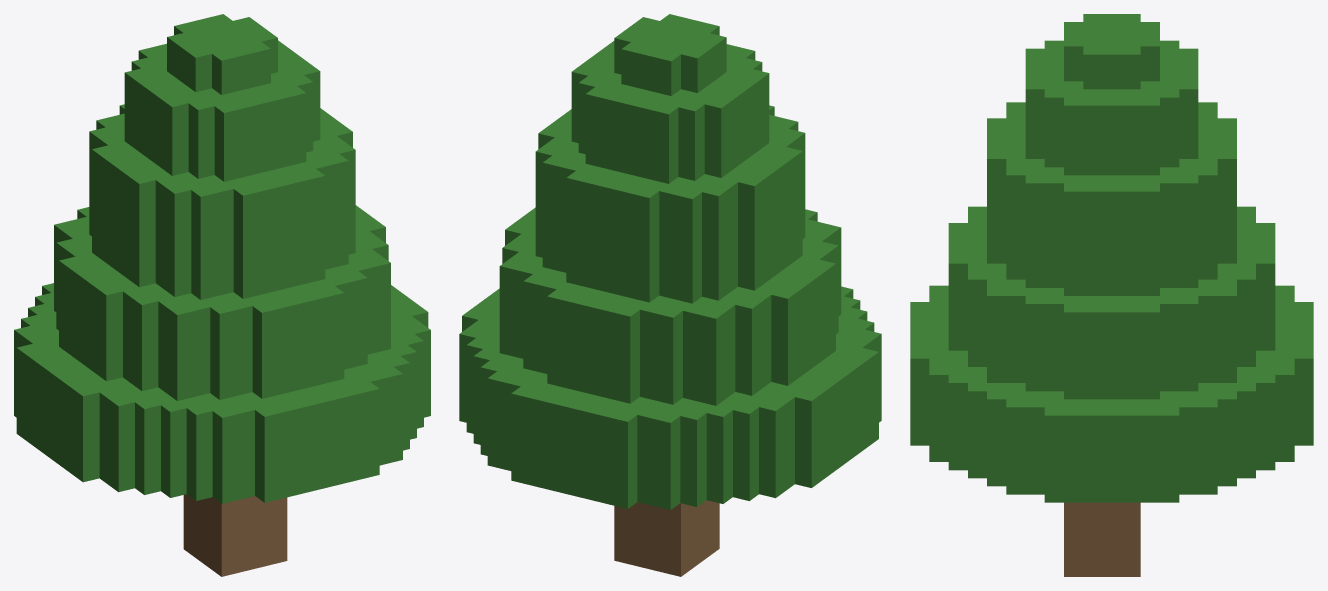
Rendered from Tree2.fbx.
3 views of the same model, side by side, from view 1: azimuth 30°, elevation 25°; view 2: azimuth 150°, elevation 25°; view 3: azimuth 270°, elevation 25° (orthographic).
Visible parts, largest first — view 1: polySurface321.003; view 2: polySurface321.003; view 3: polySurface321.003.
Part boxes in pixels (bbox=[...]): polySurface321.003: bbox=[14, 14, 430, 576]; polySurface321.003: bbox=[459, 14, 881, 576]; polySurface321.003: bbox=[910, 14, 1313, 576].
Size of the model in its own units: 210 by 300 by 210.
1 material, 1 textured.
